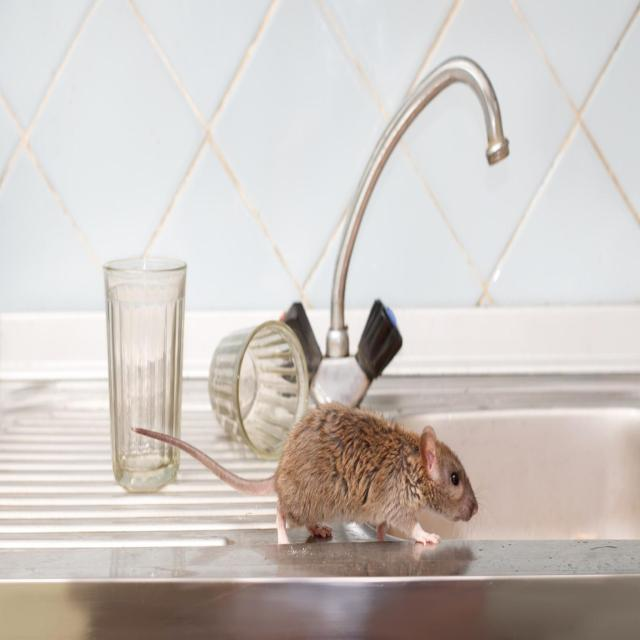rat: (229, 382, 486, 567)
